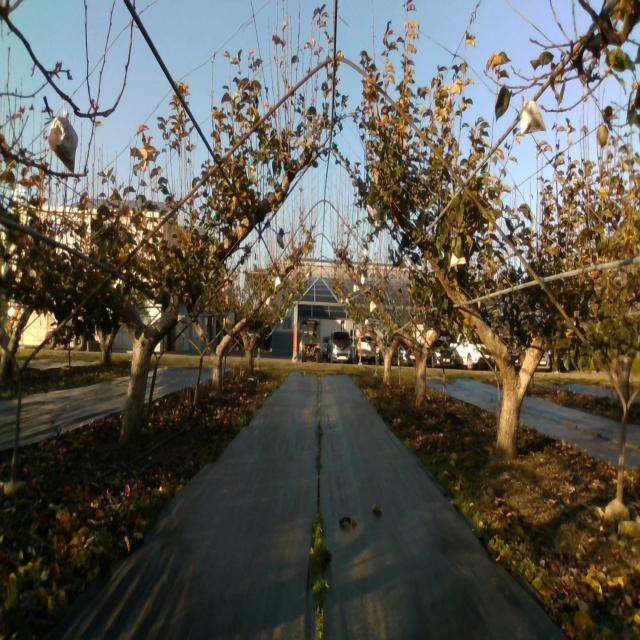pearbags: (49, 110, 78, 175), (520, 96, 546, 136), (368, 200, 381, 224), (177, 303, 188, 324)
